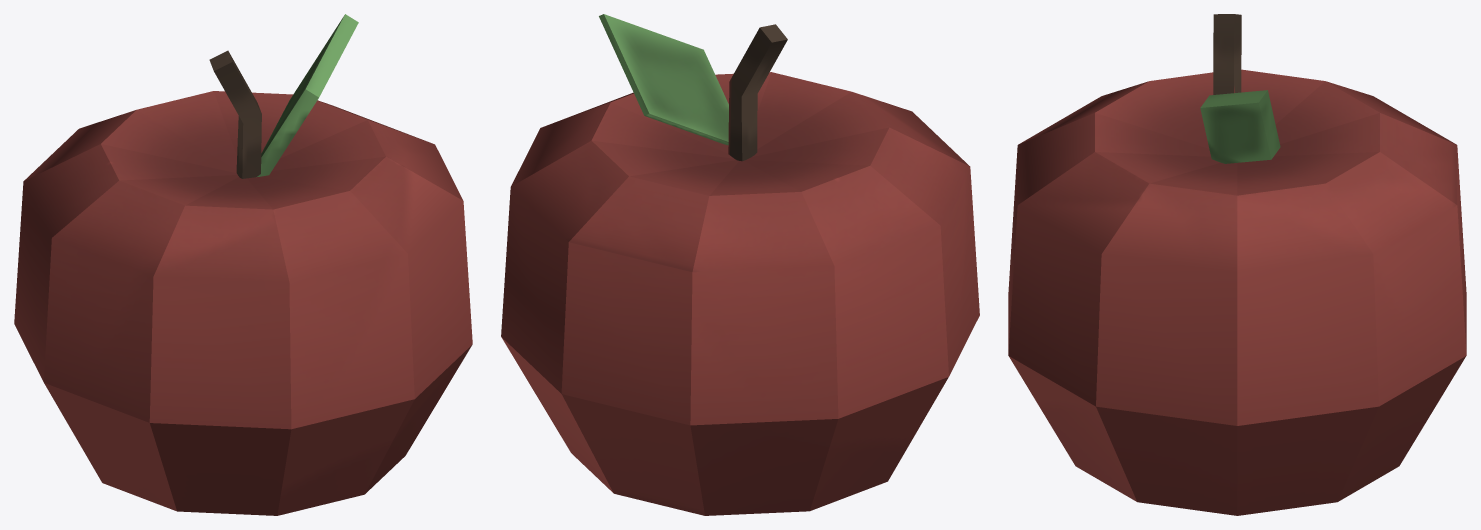
File: Food.fbx
3 views of the same model, side by side, from view 1: azimuth 30°, elevation 25°; view 2: azimuth 150°, elevation 25°; view 3: azimuth 270°, elevation 25° (orthographic). The views are drawn at different scales.
Visible parts, largest first — view 1: Food; view 2: Food; view 3: Food.
Part boxes in pixels (x1,y1,x2,y2): Food: (14,14,472,515); Food: (501,14,979,515); Food: (1008,14,1466,515).
Bounding box in the file's own units: 1.29 × 1.36 × 1.22.
Materials: 1 (1 with a texture image).
